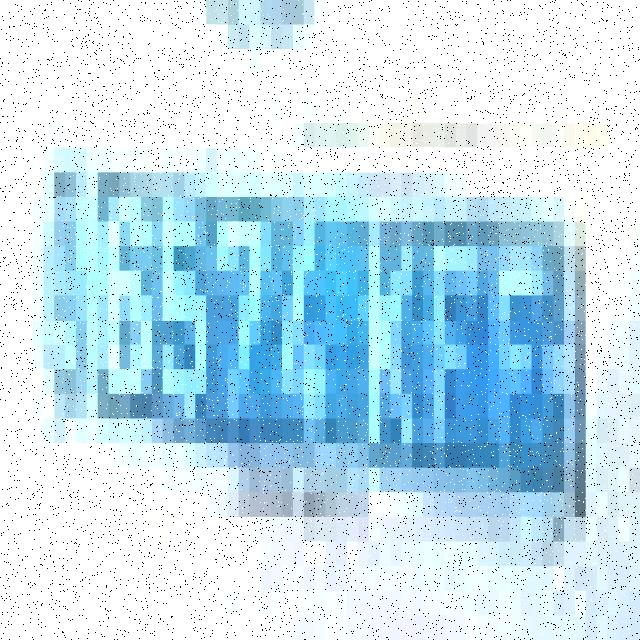licenseplate: (16, 81, 616, 633)
